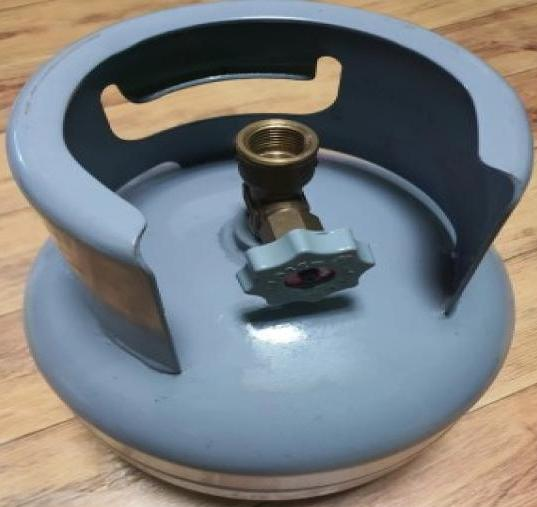cylinder: (1, 0, 537, 507)
